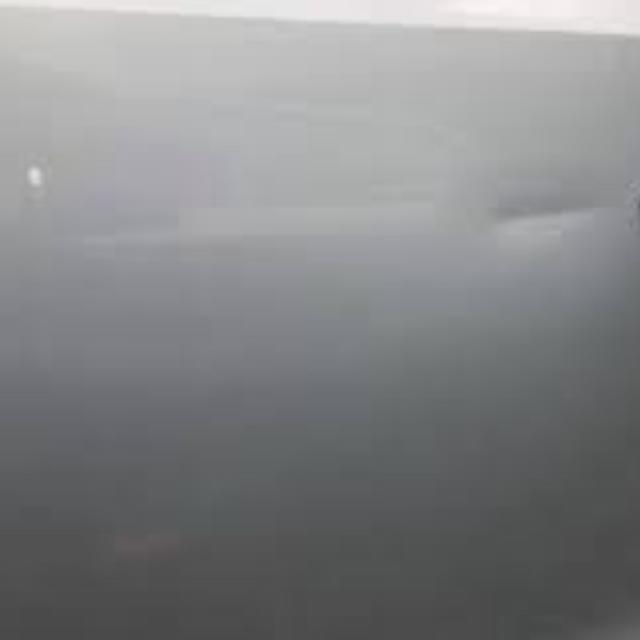dents: (480, 169, 633, 255)
